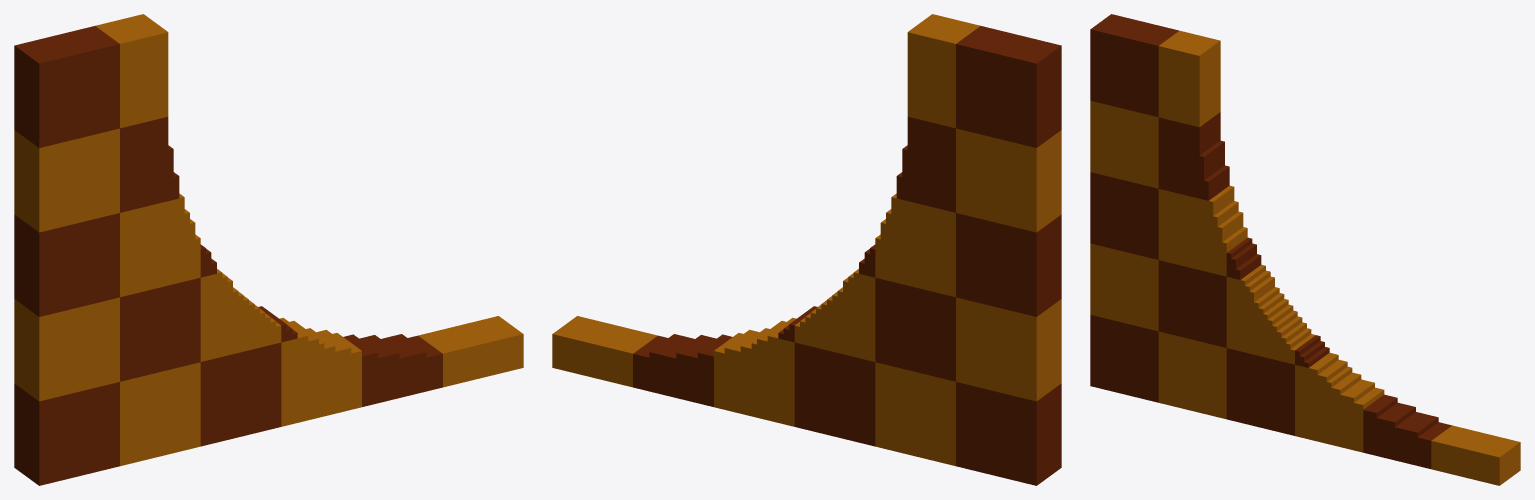
Rendered from loop_mitad_abajo.obj.
The picture shows the model from 3 angles, left to right: view 1: azimuth 30°, elevation 25°; view 2: azimuth 150°, elevation 25°; view 3: azimuth 330°, elevation 25°; orthographic projection. The views are drawn at different scales.
Bounding box in the file's own units: 9 × 7.5 × 0.8.
